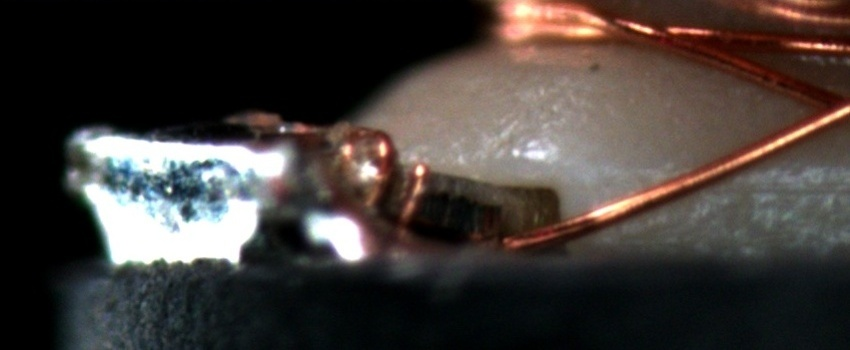CL: (784, 75, 846, 134)
DL: (602, 154, 849, 216)
TE: (280, 112, 435, 239)
